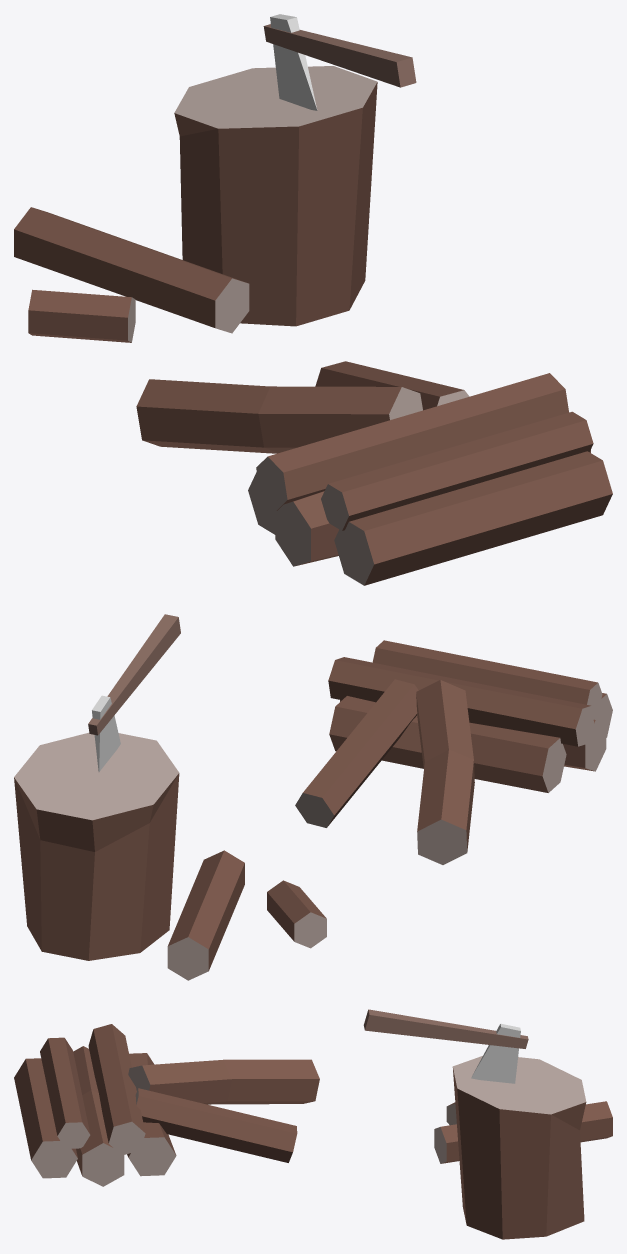
File: prop_007.fbx
The picture shows the model from 3 angles, top to bottom: view 1: azimuth 30°, elevation 25°; view 2: azimuth 150°, elevation 25°; view 3: azimuth 270°, elevation 25°; orthographic projection. The views are drawn at different scales.
Visible parts, largest first — view 1: prop.007; view 2: prop.007; view 3: prop.007.
Part boxes in pixels (x1,y1,x2,y2): prop.007: [14, 14, 612, 585]; prop.007: [14, 614, 612, 980]; prop.007: [14, 1009, 612, 1239].
Bounding box in the file's own units: 221 × 163 × 427.
1 material, 1 textured.
